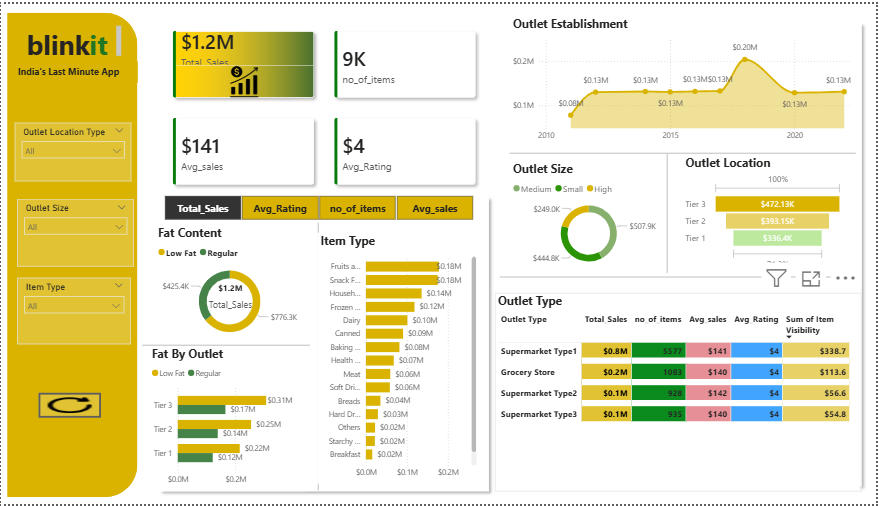

The dashboard page shown, as its layout file describes it:
{"tool":"powerbi","page":{"name":"Page 1","canvas":[1400,800],"ordinal":0},"visuals":[{"type":"shape","box":[10,13.3,208.3,775],"z":0},{"type":"textbox","box":[21.7,30,175,61.7],"z":1000},{"type":"textbox","box":[21.7,91.7,196.7,33.3],"z":2000},{"type":"cardVisual","fields":{"Data":["BlinkIT Grocery Data.Total_Sales","BlinkIT Grocery Data.Avg_sales","BlinkIT Grocery Data.no_of_items","BlinkIT Grocery Data.Avg_Rating"]},"box":[246.7,13.3,543.3,305],"z":3000},{"type":"shape","box":[246.7,300,543.3,488.3],"z":4000},{"type":"donutChart","title":"Fat Content","fields":{"Y":["BlinkIT Grocery Data.Total_Sales"],"Category":["BlinkIT Grocery Data.Item Fat Content"]},"box":[246.7,351.7,240,193.3],"z":5000},{"type":"slicer","fields":{"Values":["matrices.matrices"]},"box":[235,300,543.3,51.7],"z":6000},{"type":"card","fields":{"Values":["BlinkIT Grocery Data.Total_Sales"]},"box":[313.3,430,106.7,73.3],"z":7000},{"type":"clusteredBarChart","title":"Fat By Outlet","fields":{"Y":["BlinkIT Grocery Data.Total_Sales"],"Category":["BlinkIT Grocery Data.Outlet Location Type"],"Series":["BlinkIT Grocery Data.Item Fat Content"]},"box":[235,545,251.7,233.3],"z":8000},{"type":"shape","box":[226.7,525,268.3,40],"z":9000},{"type":"shape","box":[235,350,543.3,428.3],"z":10000},{"type":"barChart","title":"Item Type","fields":{"Y":["BlinkIT Grocery Data.Total_Sales"],"Category":["BlinkIT Grocery Data.Item Type"]},"box":[506.7,365,260,401.7],"z":11000},{"type":"shape","box":[793.3,21.7,591.7,758.3],"z":12000},{"type":"lineChart","title":"Outlet Establishment","fields":{"Category":["BlinkIT Grocery Data.Outlet Establishment Year"],"Y":["BlinkIT Grocery Data.Total_Sales"]},"box":[813.3,18.3,553.3,210],"z":13000},{"type":"shape","box":[813.3,228.3,553.3,21.7],"z":14000},{"type":"donutChart","title":"Outlet Size","fields":{"Category":["BlinkIT Grocery Data.Outlet Size"],"Y":["BlinkIT Grocery Data.Total_Sales"]},"box":[813.3,250,253.3,180],"z":15000},{"type":"funnel","title":"Outlet Location","fields":{"Y":["Sum(BlinkIT Grocery Data.Sales)"],"Category":["BlinkIT Grocery Data.Outlet Location Type"]},"box":[1090,240,261.7,190],"z":16000},{"type":"shape","box":[916.7,240,300,190],"z":17000},{"type":"shape","box":[798.3,426.7,553.3,21.7],"z":18000},{"type":"pivotTable","title":"Outlet Type","fields":{"Rows":["BlinkIT Grocery Data.Outlet Type"],"Values":["BlinkIT Grocery Data.Total_Sales","BlinkIT Grocery Data.no_of_items","BlinkIT Grocery Data.Avg_sales","BlinkIT Grocery Data.Avg_Rating","Sum(BlinkIT Grocery Data.Item Visibility)"]},"box":[790,461.7,585,318.3],"z":19000},{"type":"slicer","fields":{"Values":["BlinkIT Grocery Data.Outlet Location Type"]},"box":[21.7,190,186.7,93.3],"z":20000},{"type":"slicer","fields":{"Values":["BlinkIT Grocery Data.Outlet Size"]},"box":[26.7,311.7,186.7,108.3],"z":21000},{"type":"slicer","fields":{"Values":["BlinkIT Grocery Data.Item Type"]},"box":[26.7,438.3,181.7,106.7],"z":22000},{"type":"actionButton","box":[60,621.7,100,40],"z":22001}]}

Visuals, with their boxes in screenshot pixels (x1, y1, x2, y2), scaled from the page's 1400x800 canvas onto the 880x506 screenshot:
shape: [6, 8, 137, 499]
textbox: [14, 19, 124, 58]
textbox: [14, 58, 137, 79]
cardVisual - BlinkIT Grocery Data.Total_Sales x BlinkIT Grocery Data.Avg_sales: [155, 8, 497, 201]
shape: [155, 190, 497, 499]
"Fat Content" donutChart: [155, 222, 306, 345]
slicer - matrices.matrices: [148, 190, 489, 222]
card - BlinkIT Grocery Data.Total_Sales: [197, 272, 264, 318]
"Fat By Outlet" clusteredBarChart: [148, 345, 306, 492]
shape: [142, 332, 311, 357]
shape: [148, 221, 489, 492]
"Item Type" barChart: [318, 231, 482, 485]
shape: [499, 14, 871, 493]
"Outlet Establishment" lineChart: [511, 12, 859, 144]
shape: [511, 144, 859, 158]
"Outlet Size" donutChart: [511, 158, 670, 272]
"Outlet Location" funnel: [685, 152, 850, 272]
shape: [576, 152, 765, 272]
shape: [502, 270, 850, 284]
"Outlet Type" pivotTable: [497, 292, 864, 493]
slicer - BlinkIT Grocery Data.Outlet Location Type: [14, 120, 131, 179]
slicer - BlinkIT Grocery Data.Outlet Size: [17, 197, 134, 266]
slicer - BlinkIT Grocery Data.Item Type: [17, 277, 131, 345]
actionButton: [38, 393, 101, 419]
